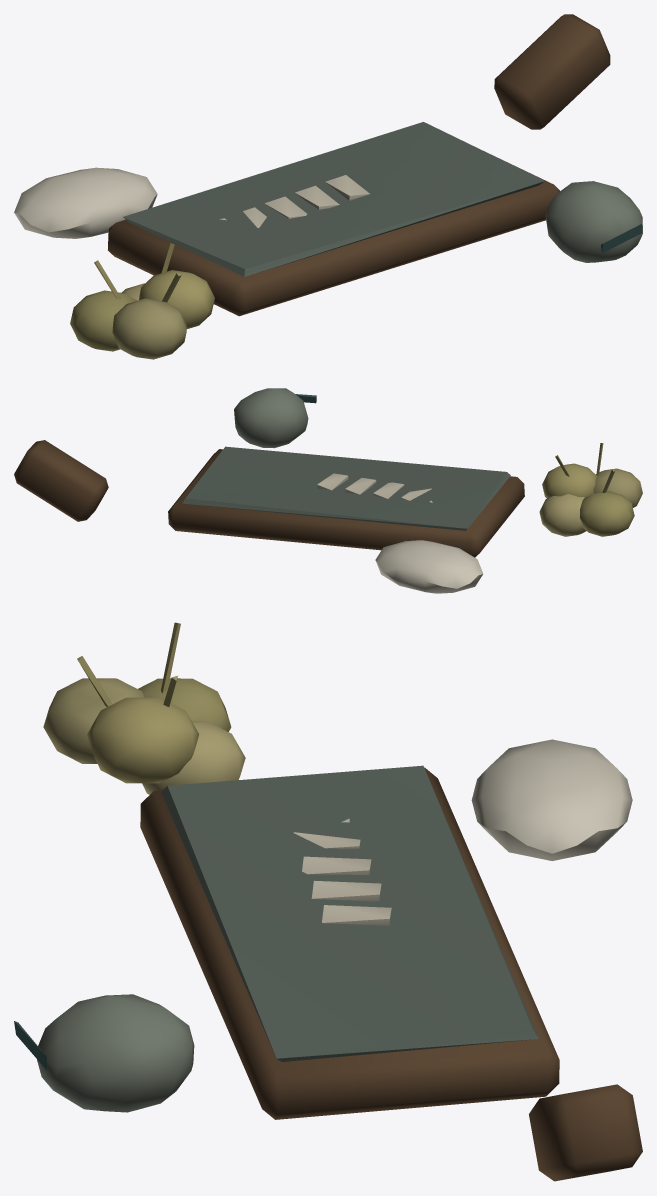
Rendered from bench_sign_b_lod1.glb.
3 views of the same model, one above another, from view 1: azimuth 30°, elevation 25°; view 2: azimuth 150°, elevation 25°; view 3: azimuth 270°, elevation 25° (orthographic). The views are drawn at different scales.
Parts seen in each view (by area): view 1: Surface.001; view 2: Surface.001; view 3: Surface.001.
Part boxes in pixels (x1,y1,x2,y2): Surface.001: (14, 14, 642, 359); Surface.001: (14, 388, 642, 593); Surface.001: (14, 622, 642, 1181).
Bounding box in the file's own units: 3.37 × 0.4927 × 1.87.
